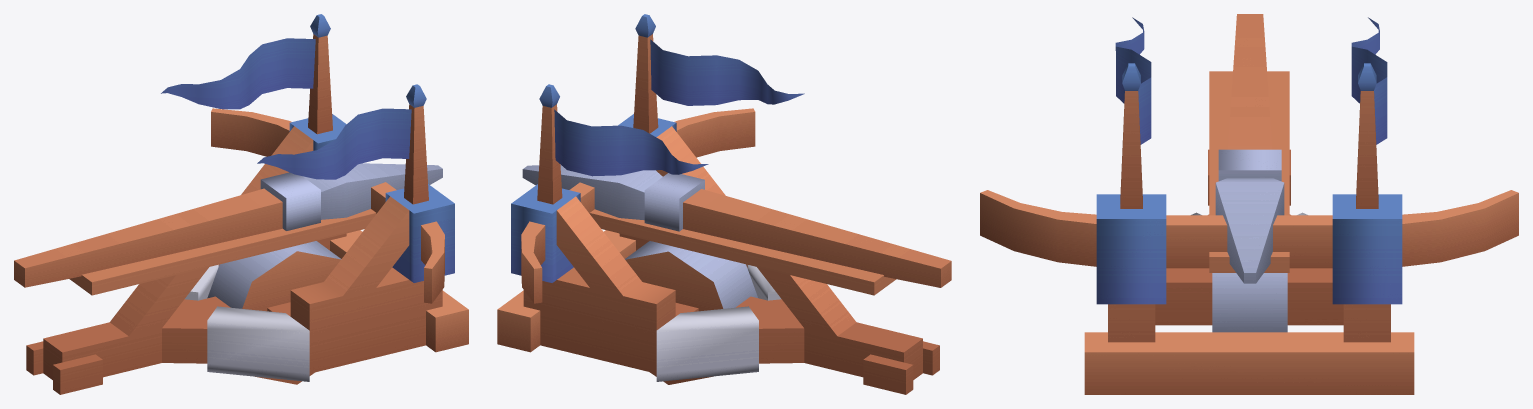
Rendered from siege-ballista.glb.
3 renders of one model, left to right at view 1: azimuth 30°, elevation 25°; view 2: azimuth 150°, elevation 25°; view 3: azimuth 270°, elevation 25°, orthographic. The views are drawn at different scales.
Parts seen in each view (by area): view 1: siege-ballista, siege-ballista.001, siege-ballista.002, siege-ballista.003; view 2: siege-ballista, siege-ballista.001, siege-ballista.003, siege-ballista.002; view 3: siege-ballista, siege-ballista.001, siege-ballista.002, siege-ballista.003.
Part boxes in pixels (x1,y1,x2,y2): siege-ballista: (26,14,468,394); siege-ballista.001: (14,163,442,287); siege-ballista.002: (223,241,341,384); siege-ballista.003: (207,241,334,307); siege-ballista: (497,14,939,394); siege-ballista.001: (522,165,951,287); siege-ballista.003: (625,242,730,384); siege-ballista.002: (641,241,757,307); siege-ballista: (980,17,1518,394); siege-ballista.001: (1215,14,1284,283); siege-ballista.002: (1212,273,1272,332); siege-ballista.003: (1227,273,1287,332).
Size of the model in its own units: 6.64 by 4.55 by 5.99.
1 material, 1 textured.
